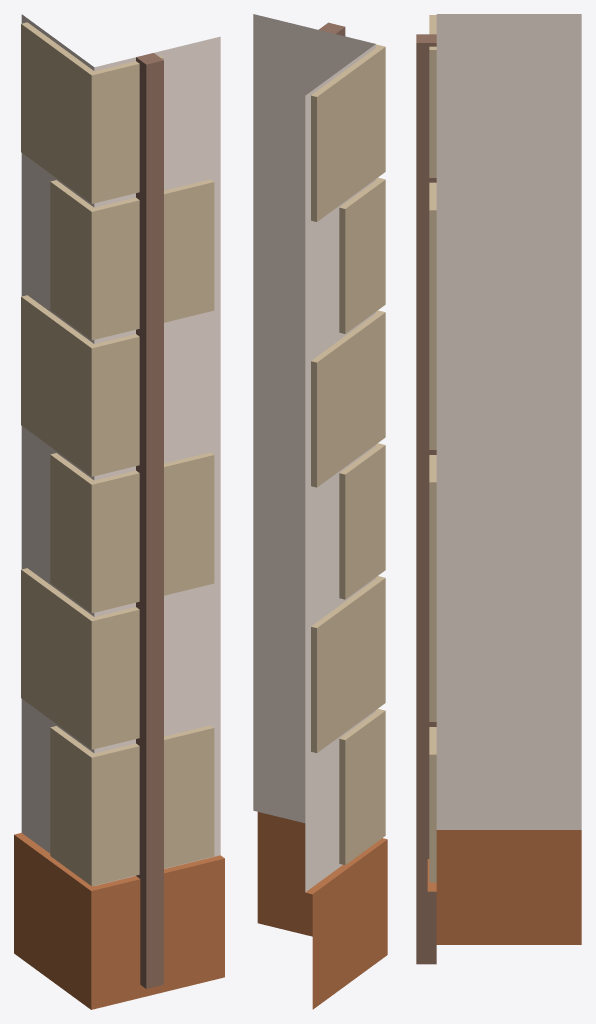
3 views of the same model, side by side, from view 1: azimuth 30°, elevation 25°; view 2: azimuth 150°, elevation 25°; view 3: azimuth 270°, elevation 25° (orthographic). The views are drawn at different scales.
Parts seen in each view (by area): view 1: a2000s2/200/base-c1; view 2: a2000s2/200/base-c1; view 3: a2000s2/200/base-c1.
Boxes of the visible parts, <box> form: a2000s2/200/base-c1: <box>14,14,224,1009</box>; a2000s2/200/base-c1: <box>253,14,387,1009</box>; a2000s2/200/base-c1: <box>416,14,581,964</box>.
Size of the model in its own units: 0.53 by 3.55 by 0.57.
